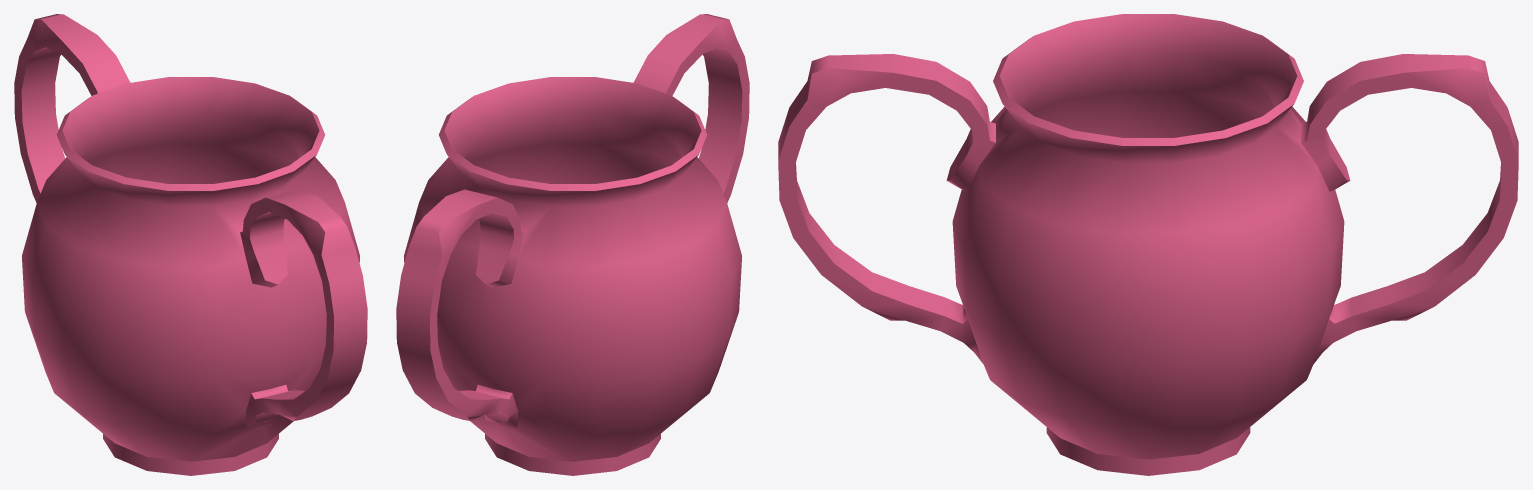
File: Tableware_V3_4.fbx
3 views of the same model, side by side, from view 1: azimuth 30°, elevation 25°; view 2: azimuth 150°, elevation 25°; view 3: azimuth 270°, elevation 25° (orthographic). The views are drawn at different scales.
Parts seen in each view (by area): view 1: SM_Tableware_V3_4; view 2: SM_Tableware_V3_4; view 3: SM_Tableware_V3_4.
Part boxes in pixels (left/top/right/bottom): SM_Tableware_V3_4: left=14, top=14, right=367, bottom=475; SM_Tableware_V3_4: left=396, top=14, right=749, bottom=475; SM_Tableware_V3_4: left=778, top=14, right=1518, bottom=475.
Size of the model in its own units: 8.32 by 8.83 by 15.97.
